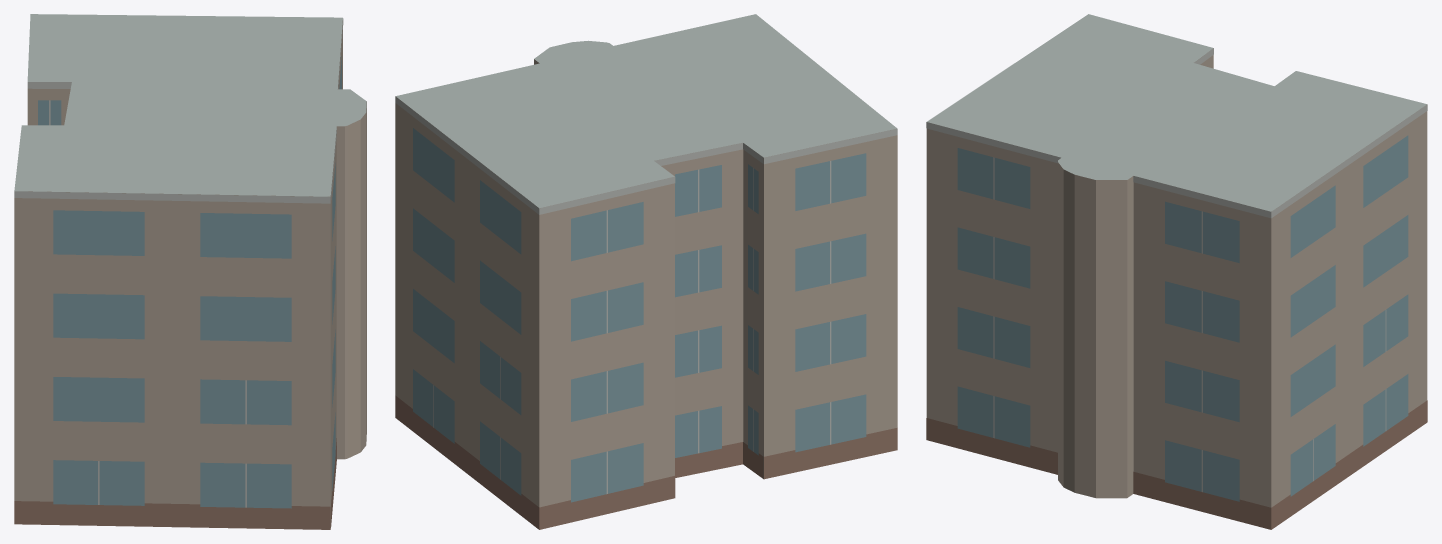
File: survey-upis-32905077.glb
3 views of the same model, side by side, from view 1: azimuth 30°, elevation 25°; view 2: azimuth 150°, elevation 25°; view 3: azimuth 270°, elevation 25° (orthographic). The views are drawn at different scales.
Parts seen in each view (by area): view 1: survey-upis-32905077.tmp; view 2: survey-upis-32905077.tmp; view 3: survey-upis-32905077.tmp.
Boxes of the visible parts, x1,y1,x2,y2 form: survey-upis-32905077.tmp: (14,14,366,529); survey-upis-32905077.tmp: (395,14,897,529); survey-upis-32905077.tmp: (926,14,1427,529).
Size of the model in its own units: 15.74 by 11.8 by 16.85.
